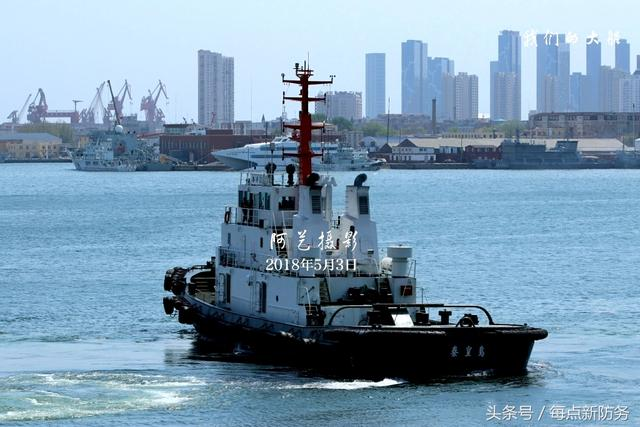otherboat: (164, 91, 562, 382), (63, 130, 144, 172)
yacht: (213, 126, 359, 172)
